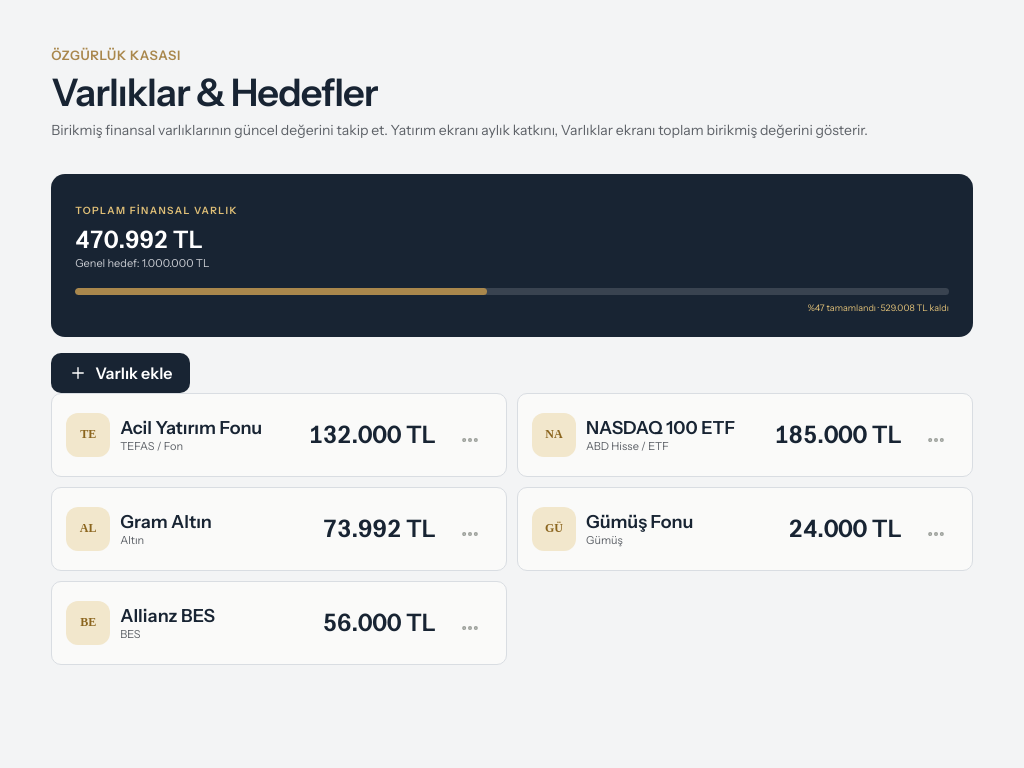
it: UX polish pack › AKÇE-039: Compact Asset & Investment Cards › clicking a second overflow menu closes the first
Click the button named "Varlık işlemleri" next to "132.000 TL": x=470, y=440 [448,418,492,462]
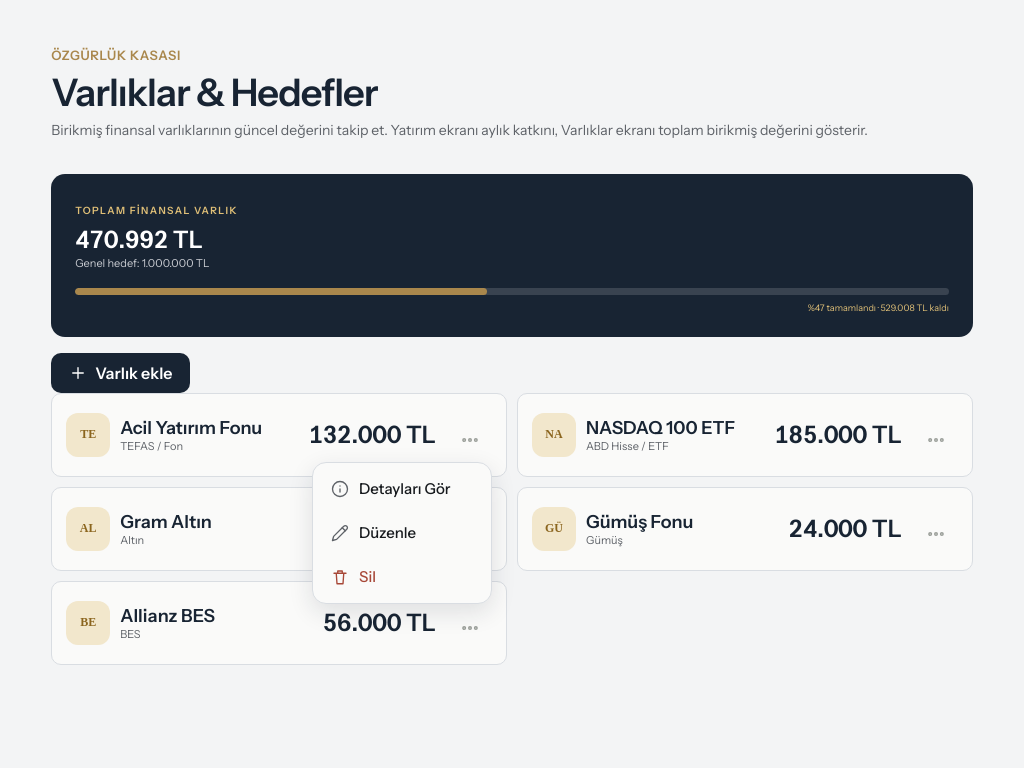
Now the menu item "Detayları Gör" is shown, box [317,467,487,511]
Press the mouse on the element that starts with "ÖZGÜRLÜK KASASI": x=512, y=384 [0,0,1023,767]
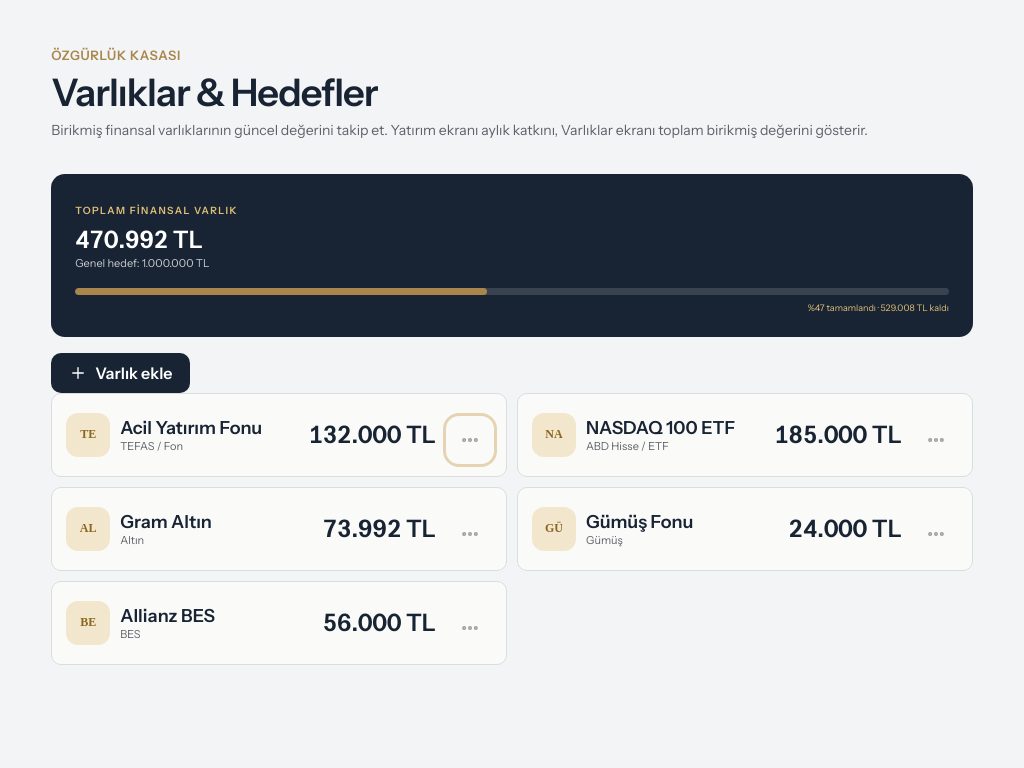
Now the menu item "Detayları Gör" is gone
